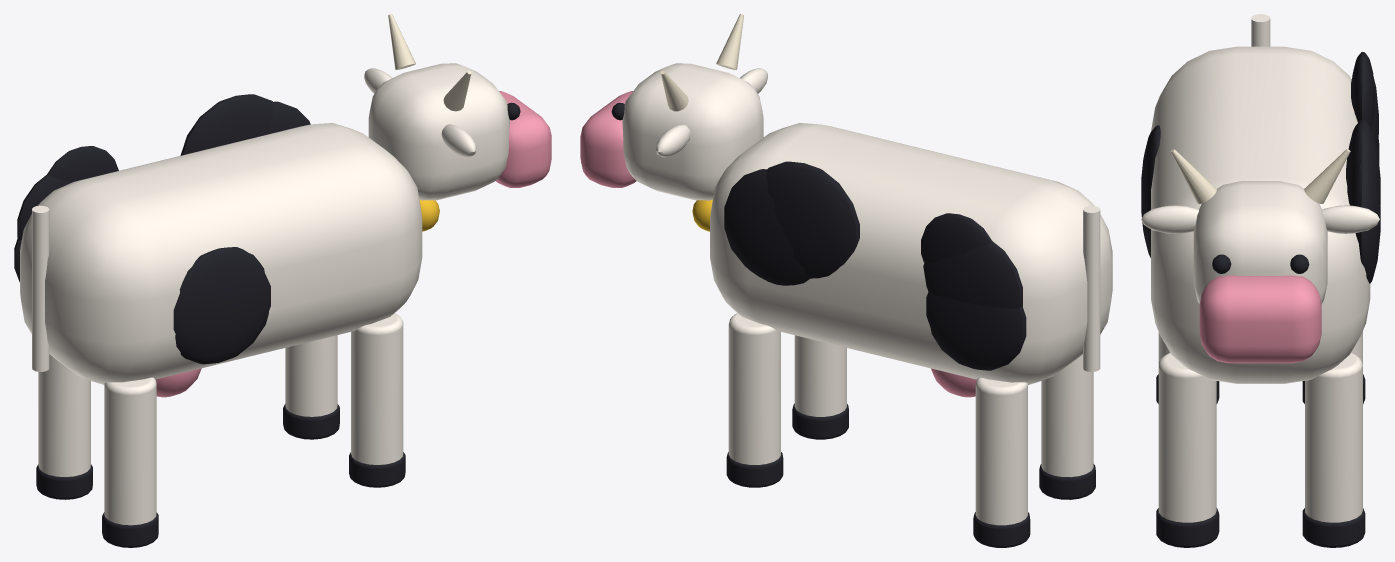
Rendered from cow.glb.
The picture shows the model from 3 angles, left to right: view 1: azimuth 30°, elevation 25°; view 2: azimuth 150°, elevation 25°; view 3: azimuth 270°, elevation 25°; orthographic projection. The views are drawn at different scales.
Parts seen in each view (by area): view 1: cow; view 2: cow; view 3: cow.
Boxes of the visible parts, <box> form: cow: <box>14,14,551,547</box>; cow: <box>580,14,1112,547</box>; cow: <box>1141,14,1380,547</box>.
Bounding box in the file's own units: 2.64 × 1.96 × 0.9829.
Materials: 1 (1 with a texture image).
